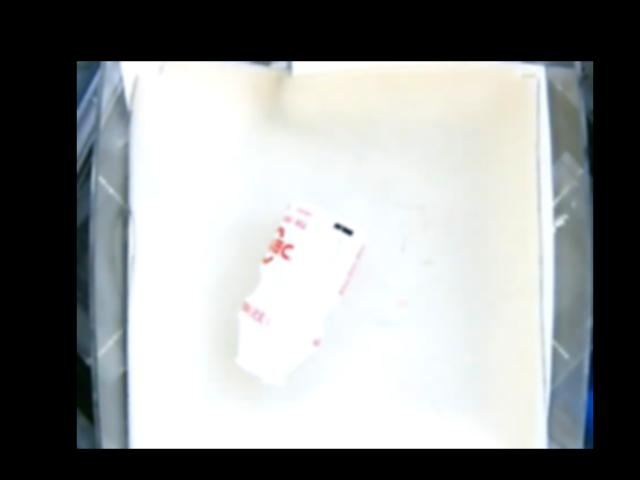Bottle: (232, 200, 366, 385)
